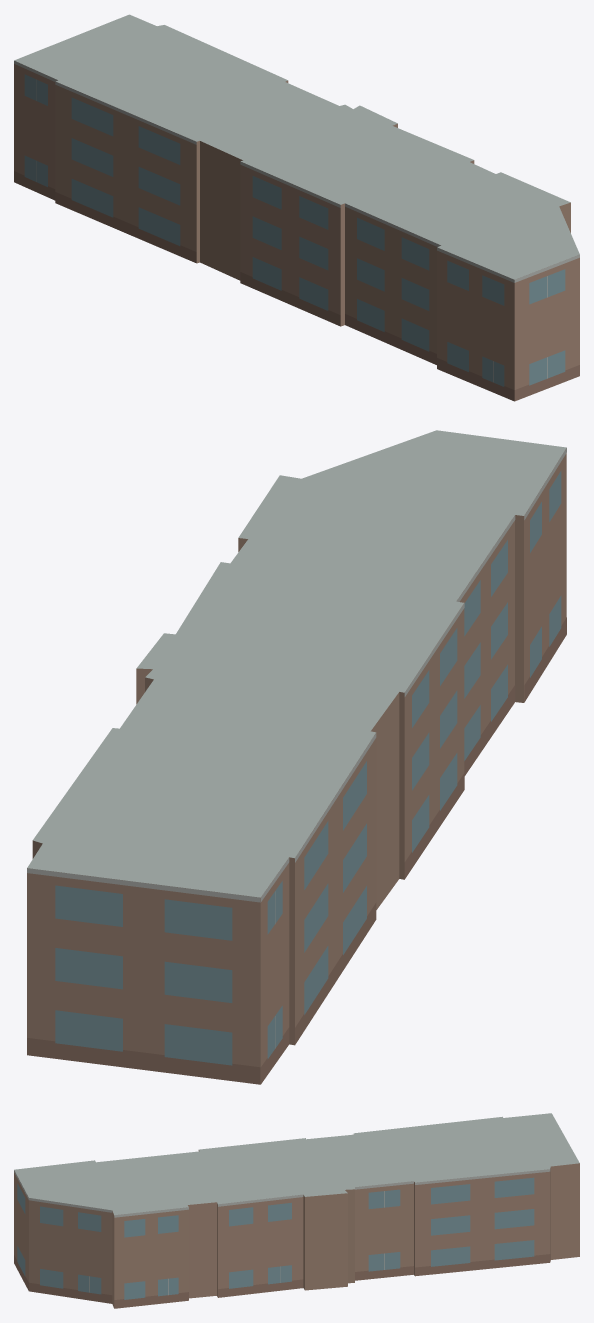
File: survey-upis-32709785.glb
3 renders of one model, top to bottom at view 1: azimuth 30°, elevation 25°; view 2: azimuth 150°, elevation 25°; view 3: azimuth 270°, elevation 25°, orthographic. The views are drawn at different scales.
Parts seen in each view (by area): view 1: survey-upis-32709785.tmp; view 2: survey-upis-32709785.tmp; view 3: survey-upis-32709785.tmp.
Boxes of the visible parts, box(x1,y1,x2,y2) form: survey-upis-32709785.tmp: box(14, 14, 579, 401); survey-upis-32709785.tmp: box(27, 430, 566, 1084); survey-upis-32709785.tmp: box(14, 1113, 579, 1308).
Size of the model in its own units: 21.43 by 9.15 by 50.17.
